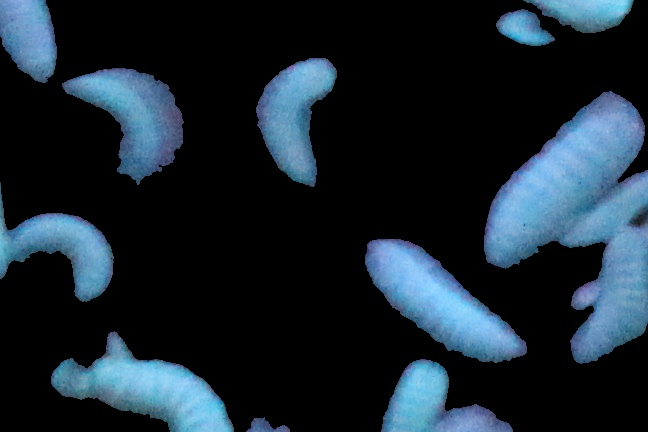larvae: (486, 91, 646, 278), (363, 232, 526, 369), (61, 60, 188, 187), (83, 345, 229, 432), (255, 49, 338, 194), (3, 212, 109, 307), (576, 230, 648, 360), (563, 172, 648, 249), (383, 355, 453, 432), (1, 1, 60, 92)
